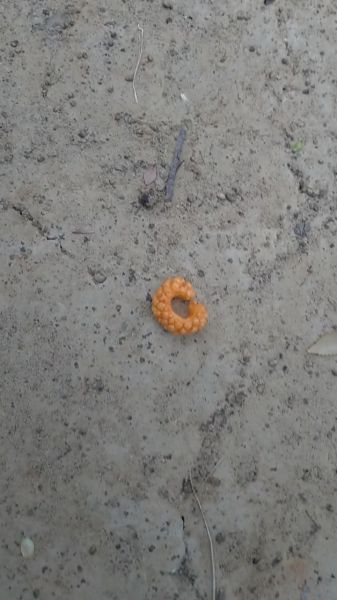eggs: (151, 278, 205, 339)
